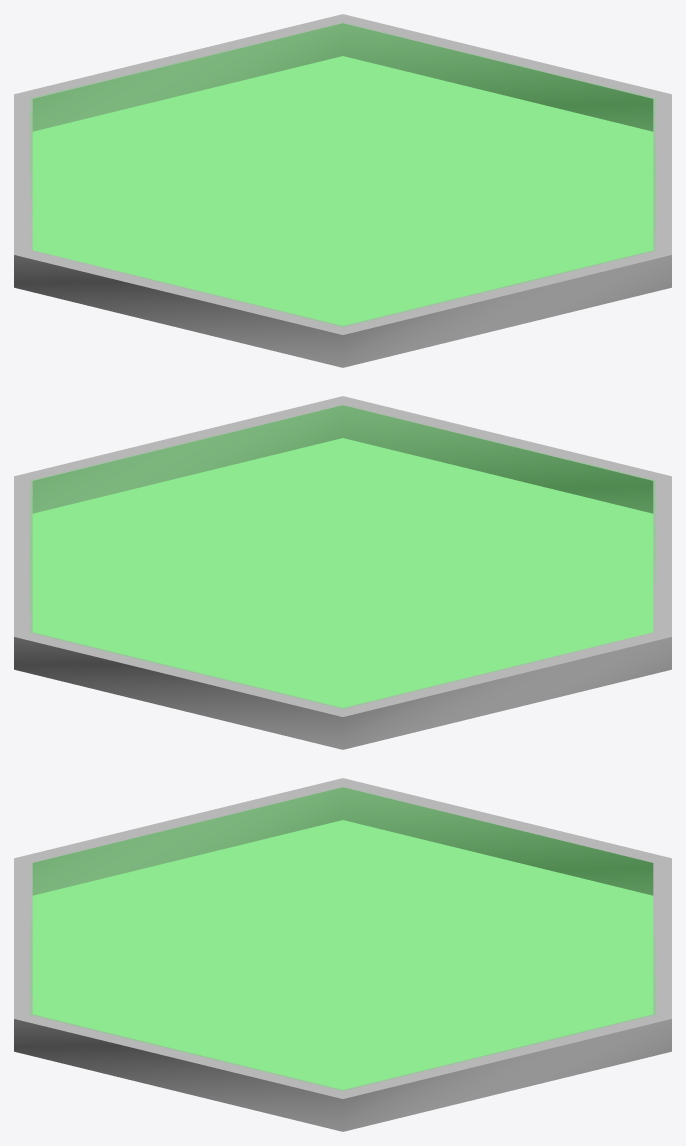
File: HexUnit(green without bacteria).fbx
The picture shows the model from 3 angles, top to bottom: view 1: azimuth 30°, elevation 25°; view 2: azimuth 150°, elevation 25°; view 3: azimuth 270°, elevation 25°; orthographic projection.
Parts seen in each view (by area): view 1: 封顶_2, 封顶_1, 管道; view 2: 封顶_2, 封顶_1, 管道; view 3: 封顶_2, 封顶_1, 管道.
Boxes of the visible parts, x1,y1,x2,y2 form: 封顶_2: (30,22,655,326); 封顶_1: (33,56,652,325); 管道: (14,14,671,367); 封顶_2: (30,405,655,708); 封顶_1: (33,438,652,707); 管道: (14,396,671,749); 封顶_2: (30,787,655,1090); 封顶_1: (33,820,652,1089); 管道: (14,778,671,1131).
Bounding box in the file's own units: 2.1 × 0.1 × 1.82.
